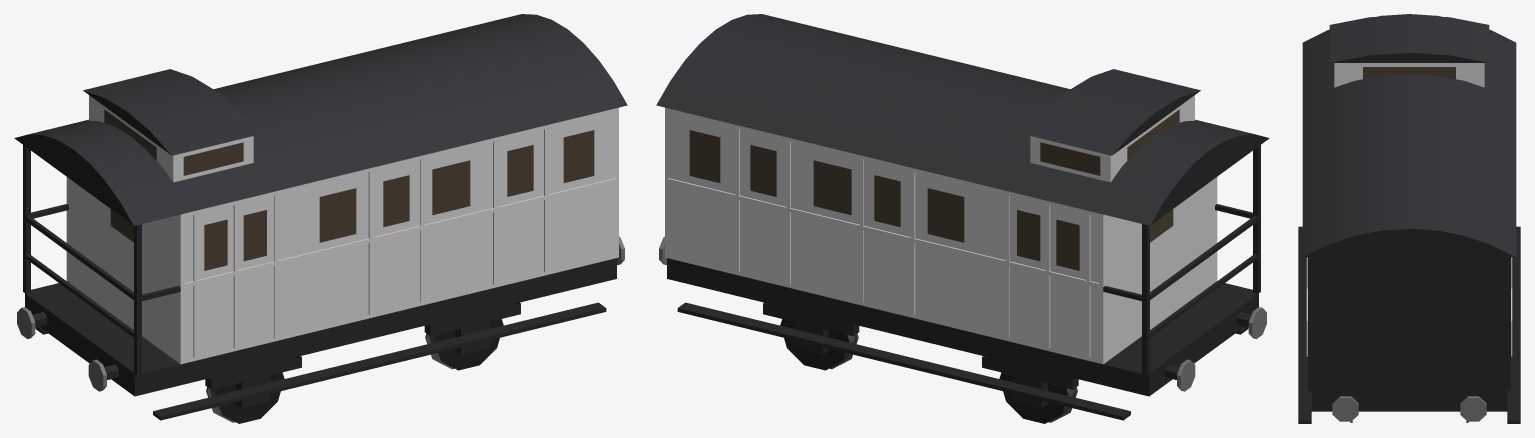
File: train_carriage_b.glb
3 views of the same model, side by side, from view 1: azimuth 30°, elevation 25°; view 2: azimuth 150°, elevation 25°; view 3: azimuth 270°, elevation 25° (orthographic). The views are drawn at different scales.
Parts seen in each view (by area): view 1: train_carriage_b_lod0; view 2: train_carriage_b_lod0; view 3: train_carriage_b_lod0.
Part boxes in pixels (x1=…): train_carriage_b_lod0: x1=14, y1=14, x2=627, y2=423; train_carriage_b_lod0: x1=656, y1=14, x2=1269, y2=423; train_carriage_b_lod0: x1=1298, y1=14, x2=1520, y2=423.
Size of what is drawn, in the model's own units: 7.14 by 3.99 by 2.96.
